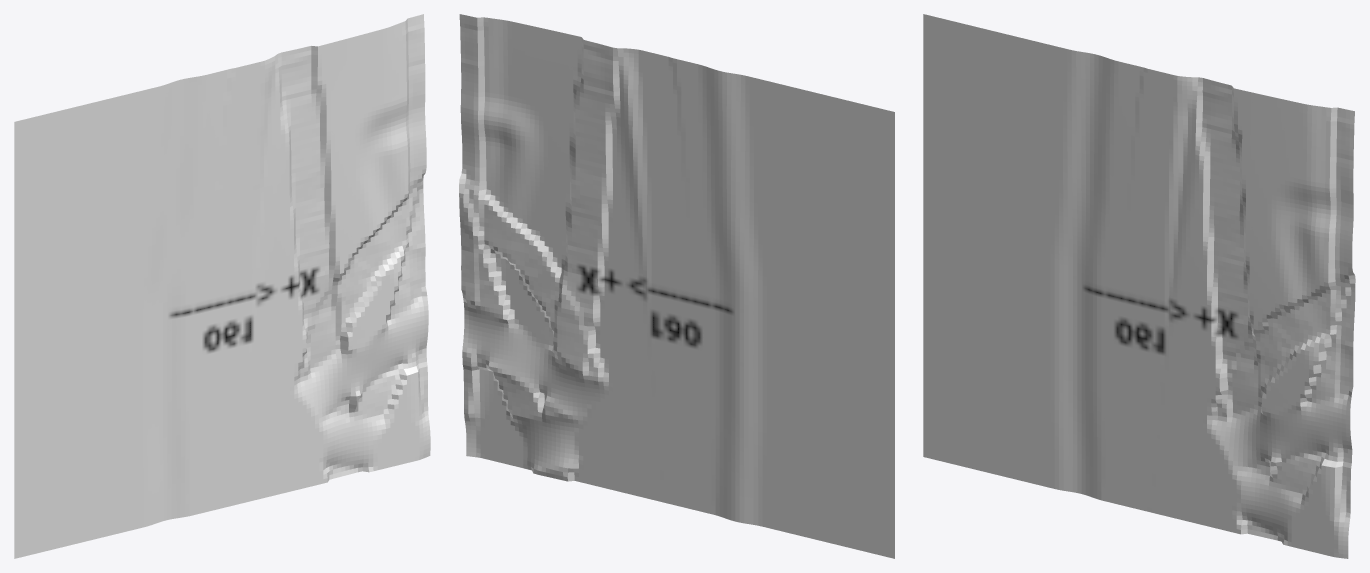
3 views of the same model, side by side, from view 1: azimuth 30°, elevation 25°; view 2: azimuth 150°, elevation 25°; view 3: azimuth 330°, elevation 25° (orthographic). The views are drawn at different scales.
Visible parts, largest first — view 1: Ground061; view 2: Ground061; view 3: Ground061.
Part boxes in pixels (bbox=[...]): Ground061: bbox=[14, 14, 430, 558]; Ground061: bbox=[459, 14, 894, 558]; Ground061: bbox=[923, 14, 1355, 558].
Size of what is drawn, in the model's own units: 100 by 3.61 by 100.
Materials: 1 (1 with a texture image).
